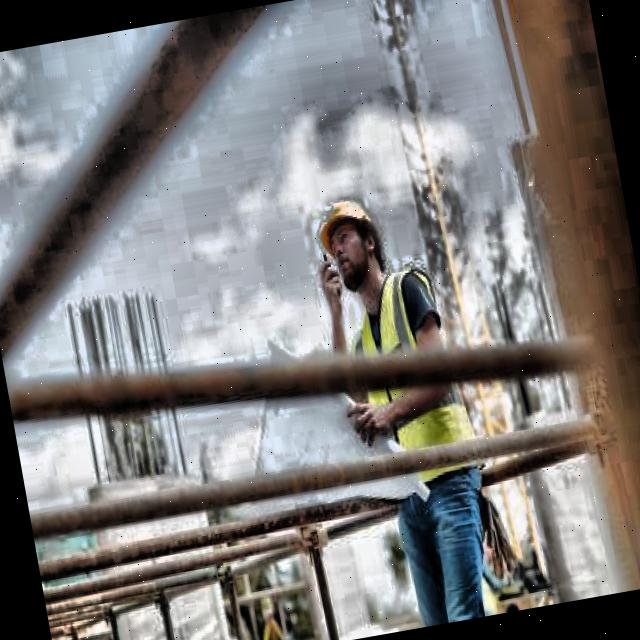helmet: (309, 181, 391, 301)
